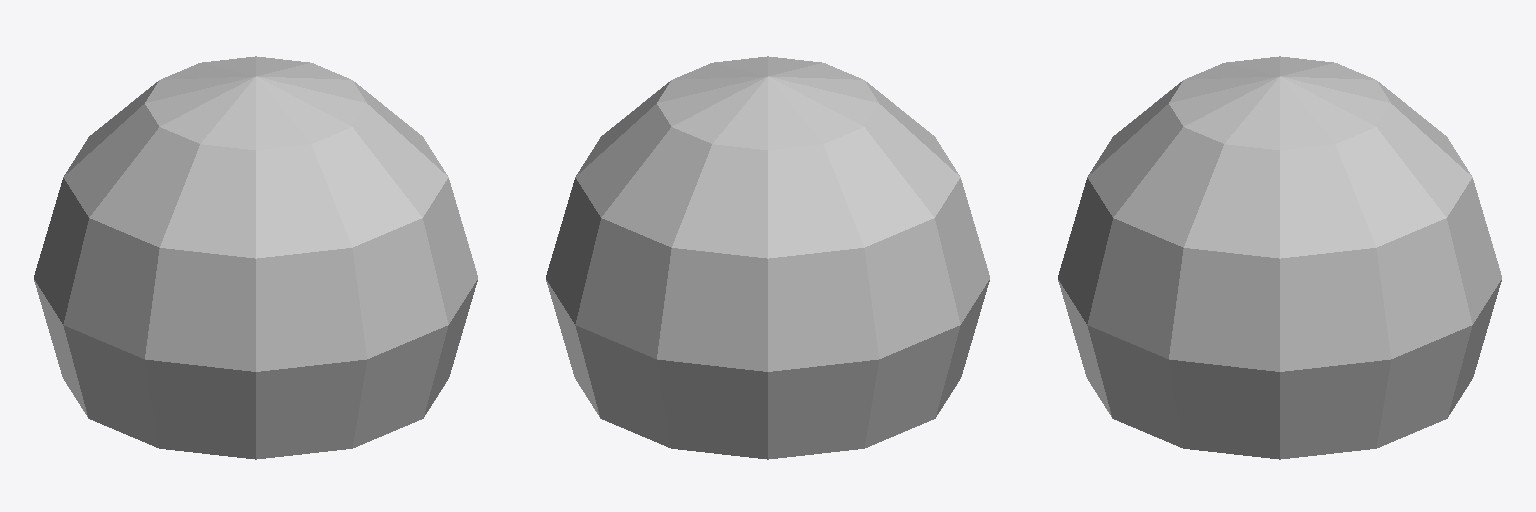
File: skydome.obj
The picture shows the model from 3 angles: view 1: azimuth 30°, elevation 25°; view 2: azimuth 150°, elevation 25°; view 3: azimuth 270°, elevation 25°; orthographic projection.
Parts seen in each view (by area): view 1: Sphere001; view 2: Sphere001; view 3: Sphere001.
Boxes of the visible parts, x1=… form: Sphere001: x1=34, y1=56, x2=477, y2=459; Sphere001: x1=546, y1=56, x2=989, y2=459; Sphere001: x1=1058, y1=56, x2=1501, y2=459.
Bounding box in the file's own units: 102400 × 91200 × 102400.